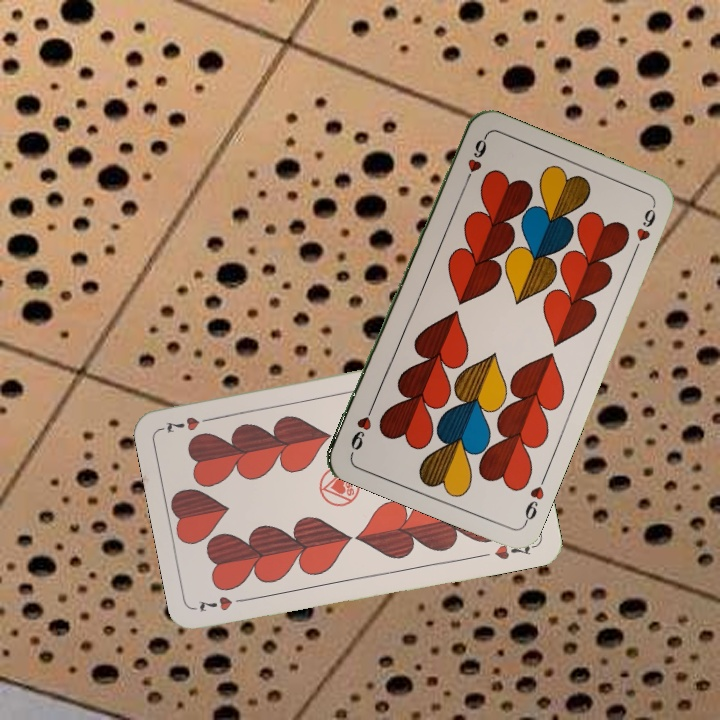H7: (195, 592, 252, 615)
H9: (460, 133, 490, 189), (520, 470, 549, 527)
